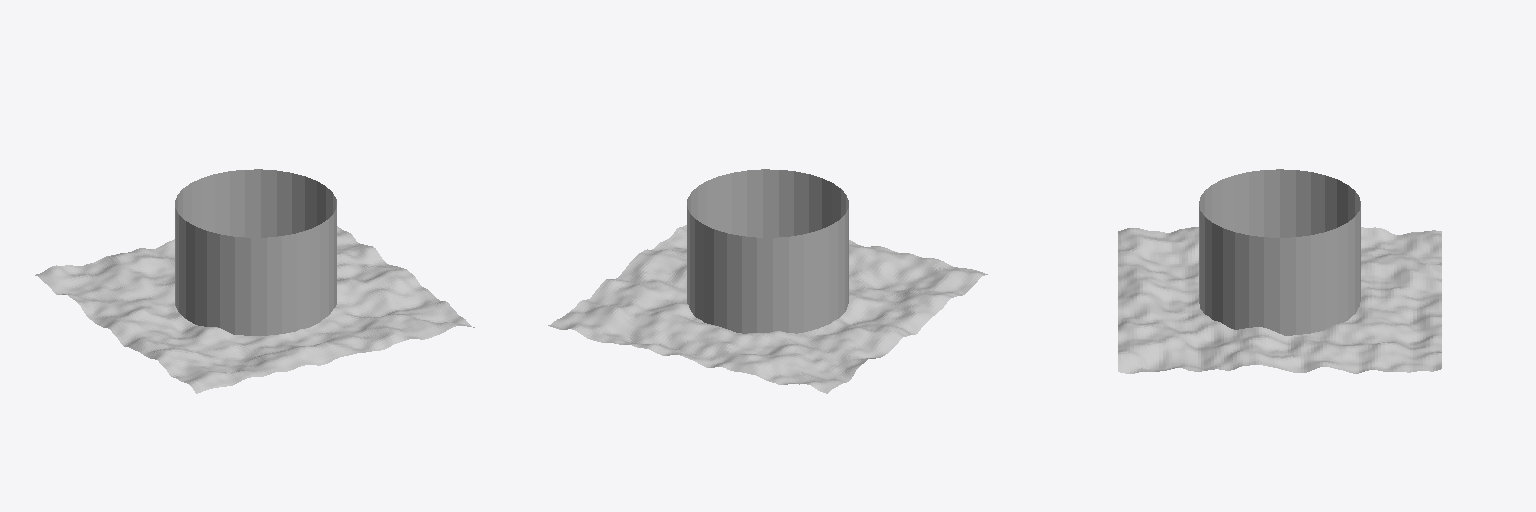
Rendered from terrain.obj.
3 views of the same model, side by side, from view 1: azimuth 30°, elevation 25°; view 2: azimuth 150°, elevation 25°; view 3: azimuth 270°, elevation 25° (orthographic).
Parts seen in each view (by area): view 1: Plane, Circle; view 2: Plane, Circle; view 3: Plane, Circle.
Part boxes in pixels (bbox=[...]): Plane: bbox=[35, 226, 474, 393]; Circle: bbox=[175, 169, 336, 335]; Plane: bbox=[548, 225, 987, 393]; Circle: bbox=[687, 169, 848, 333]; Plane: bbox=[1118, 227, 1441, 373]; Circle: bbox=[1199, 169, 1360, 335].
Size of the model in its own units: 150 by 53.38 by 150.